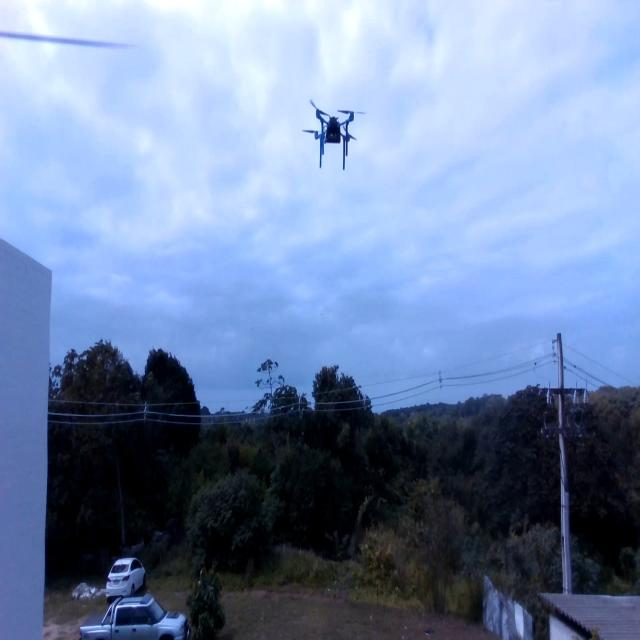-uav-: (300, 82, 364, 184)
